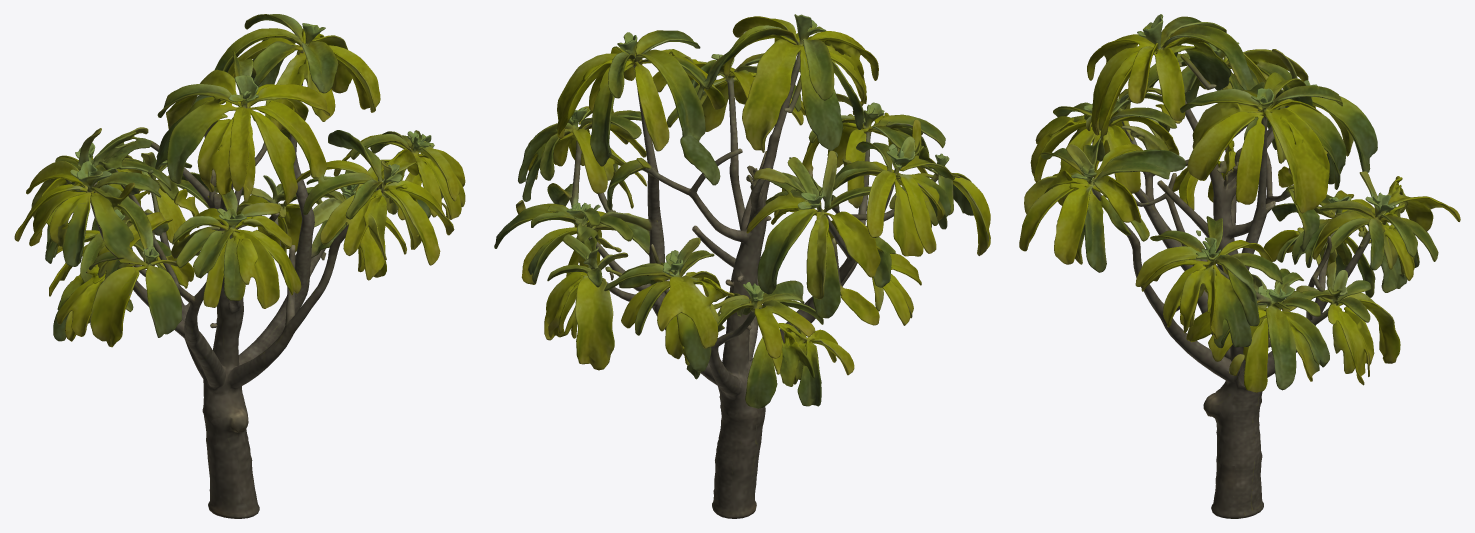
The model's file is tree_01_umbrella_canopy.glb.
The picture shows the model from 3 angles, left to right: view 1: azimuth 30°, elevation 25°; view 2: azimuth 150°, elevation 25°; view 3: azimuth 270°, elevation 25°; orthographic projection.
Parts seen in each view (by area): view 1: world; view 2: world; view 3: world.
Part boxes in pixels (<box>): world: <box>14,14,465,518</box>; world: <box>494,14,990,518</box>; world: <box>1019,14,1460,518</box>.
Size of the model in its own units: 0.9596 by 1 by 0.8403.
1 material, 1 textured.
